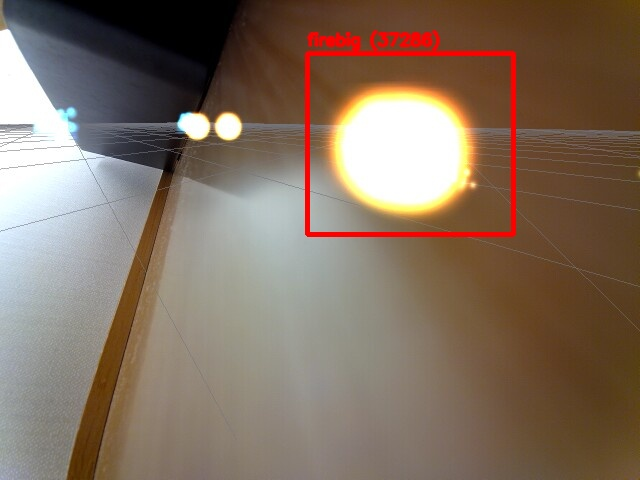firebig: (307, 53, 513, 234)
